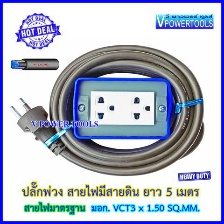three_eye_plug: (71, 77, 171, 140)
